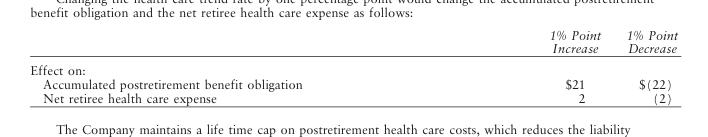table: (29, 29, 677, 105)
table column: (29, 29, 425, 105), (425, 29, 612, 105), (612, 29, 677, 105)
table column header: (29, 29, 677, 59)
table projected row header: (29, 59, 677, 77)
table row: (29, 29, 677, 59), (29, 59, 677, 77), (29, 77, 677, 92), (29, 92, 677, 105)
